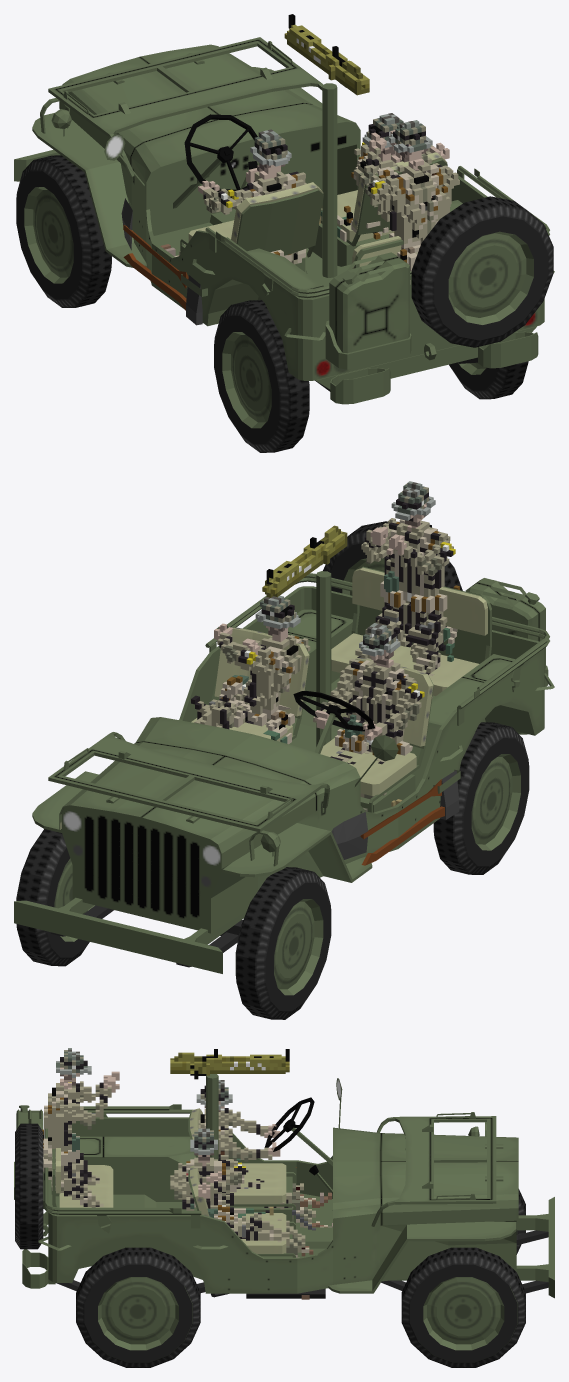
File: willys_mb_recoilless_rifle.glb
3 views of the same model, one above another, from view 1: azimuth 30°, elevation 25°; view 2: azimuth 150°, elevation 25°; view 3: azimuth 270°, elevation 25° (orthographic). The views are drawn at different scales.
Parts seen in each view (by area): view 1: 00_chassis_willys_mb_chassis.mesh, 02_tire_index_0_willys_mb_wheel.mesh, 04_tire_index_2_willys_mb_wheel.mesh, crew_soldier_SLOT_01_GUNNER, crew_soldier_SLOT_00_DRIVER, crew_soldier_SLOT_02_PASSENGER, weapon_turret_0_weapon_m18_recoilless_rifle.xml, 05_tire_index_3_willys_mb_wheel.mesh; view 2: 00_chassis_willys_mb_chassis.mesh, 02_tire_index_0_willys_mb_wheel.mesh, crew_soldier_SLOT_01_GUNNER, 04_tire_index_2_willys_mb_wheel.mesh, crew_soldier_SLOT_02_PASSENGER, crew_soldier_SLOT_00_DRIVER, 03_tire_index_1_willys_mb_wheel.mesh, weapon_turret_0_weapon_m18_recoilless_rifle.xml; view 3: 00_chassis_willys_mb_chassis.mesh, 05_tire_index_3_willys_mb_wheel.mesh, 03_tire_index_1_willys_mb_wheel.mesh, crew_soldier_SLOT_01_GUNNER, crew_soldier_SLOT_02_PASSENGER, crew_soldier_SLOT_00_DRIVER, weapon_turret_0_weapon_m18_recoilless_rifle.xml.
Part boxes in pixels (x1=…): 00_chassis_willys_mb_chassis.mesh: x1=14, y1=37, x2=554, y2=404; 02_tire_index_0_willys_mb_wheel.mesh: x1=16, y1=155, x2=111, y2=307; 04_tire_index_2_willys_mb_wheel.mesh: x1=214, y1=300, x2=309, y2=452; crew_soldier_SLOT_01_GUNNER: x1=360, y1=120, x2=459, y2=284; crew_soldier_SLOT_00_DRIVER: x1=160, y1=129, x2=306, y2=264; crew_soldier_SLOT_02_PASSENGER: x1=319, y1=113, x2=449, y2=241; weapon_turret_0_weapon_m18_recoilless_rifle.xml: x1=284, y1=14, x2=369, y2=95; 05_tire_index_3_willys_mb_wheel.mesh: x1=449, y1=361, x2=528, y2=399; 00_chassis_willys_mb_chassis.mesh: x1=14, y1=521, x2=554, y2=973; 02_tire_index_0_willys_mb_wheel.mesh: x1=235, y1=867, x2=331, y2=1019; crew_soldier_SLOT_01_GUNNER: x1=355, y1=481, x2=459, y2=698; 04_tire_index_2_willys_mb_wheel.mesh: x1=433, y1=722, x2=529, y2=874; crew_soldier_SLOT_02_PASSENGER: x1=191, y1=595, x2=310, y2=744; crew_soldier_SLOT_00_DRIVER: x1=313, y1=623, x2=424, y2=811; 03_tire_index_1_willys_mb_wheel.mesh: x1=16, y1=829, x2=94, y2=966; weapon_turret_0_weapon_m18_recoilless_rifle.xml: x1=262, y1=525, x2=347, y2=597; 00_chassis_willys_mb_chassis.mesh: x1=14, y1=1074, x2=554, y2=1298; 05_tire_index_3_willys_mb_wheel.mesh: x1=76, y1=1247, x2=200, y2=1367; 03_tire_index_1_willys_mb_wheel.mesh: x1=401, y1=1247, x2=525, y2=1367; crew_soldier_SLOT_01_GUNNER: x1=42, y1=1048, x2=119, y2=1207; crew_soldier_SLOT_02_PASSENGER: x1=170, y1=1128, x2=313, y2=1299; crew_soldier_SLOT_00_DRIVER: x1=196, y1=1080, x2=332, y2=1230; weapon_turret_0_weapon_m18_recoilless_rifle.xml: x1=170, y1=1049, x2=289, y2=1079.
Bounding box in the file's own units: 2.1 × 2.38 × 4.26.
Materials: 42 (1 with a texture image).
